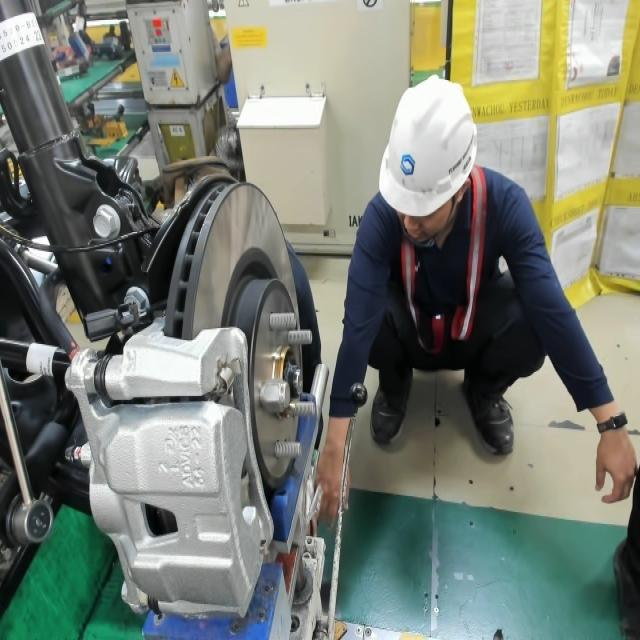Absorber LH-23: (30, 26, 46, 48)
Disc-HT: (214, 243, 312, 501)
Drive Shaft-PT: (20, 340, 61, 380)
